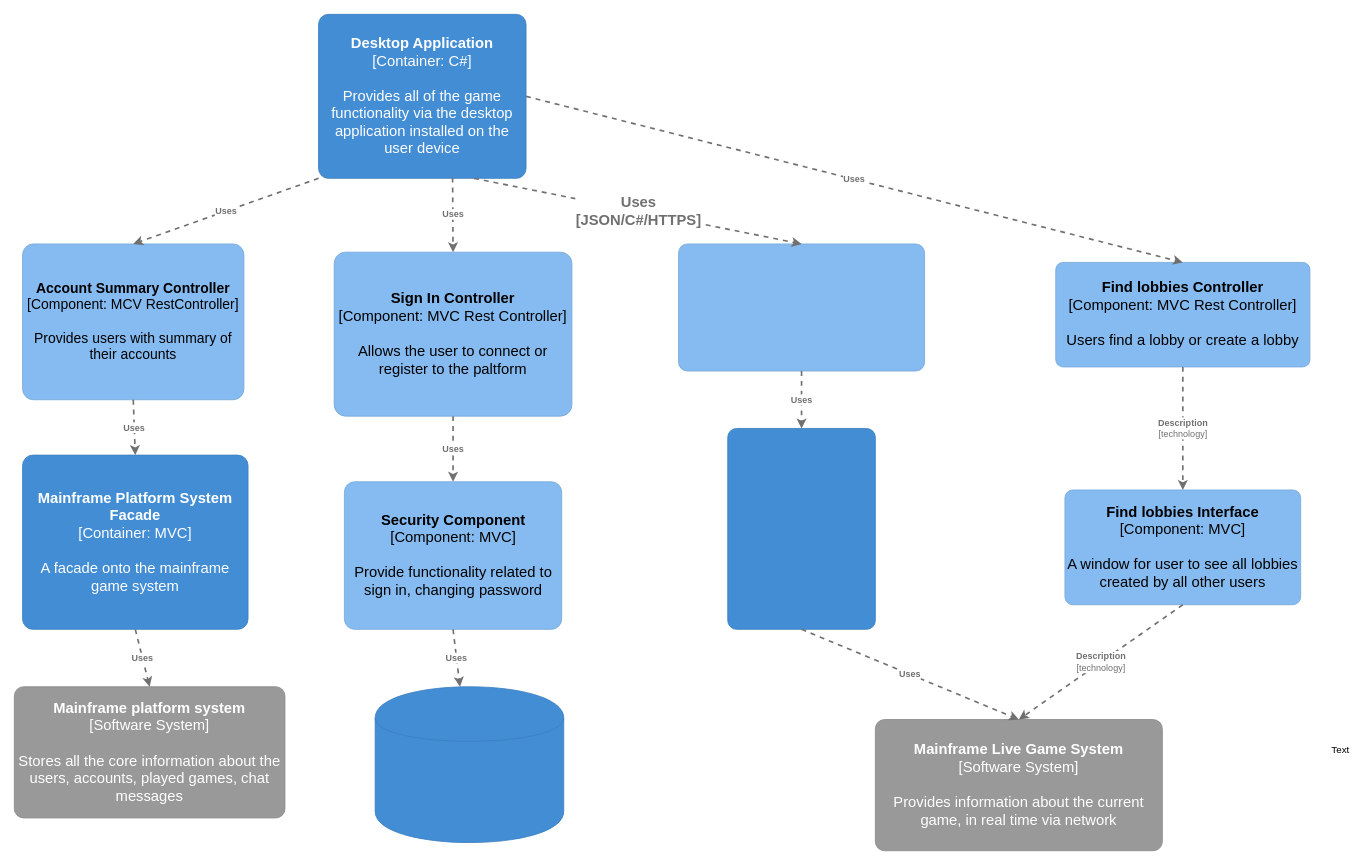
Some shapes in this 1371 by 865 pixel diagram are drawn without their labels. The shapes that lost their labels are listed below. From the top down, each one's centre as x and y in pixels, then its label:
At (801,307): "Play Game Controller [Component: MVC Rest Controller] Users play the game".
At (801,528): "Play Game Interface [Container: MVC] An interface for the game".
At (469,764): "Database [Container: DBMS] Stores user information and credentials".
